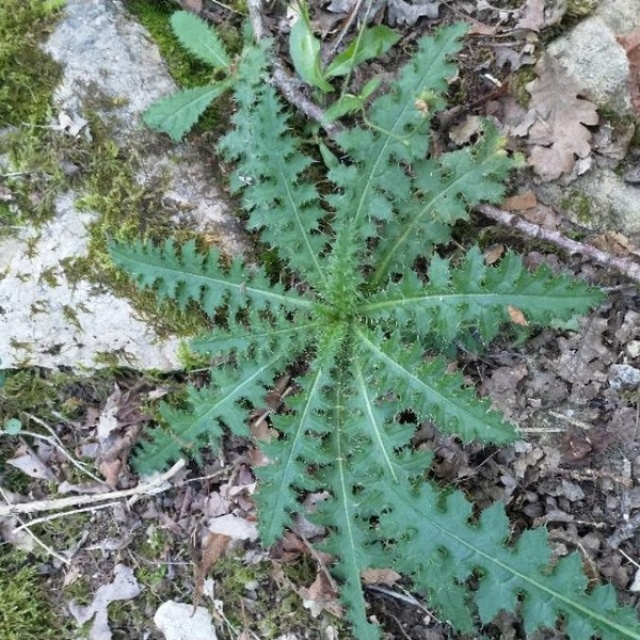obstacle: (98, 75, 541, 558)
